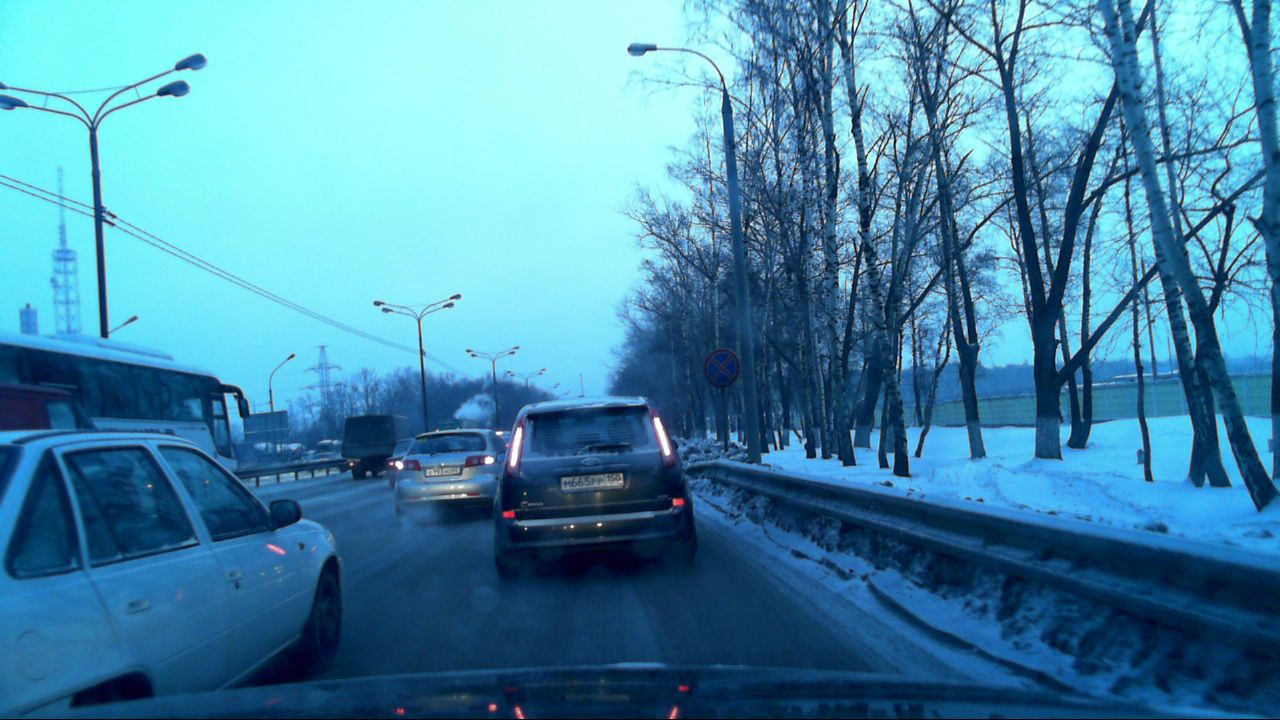No Parking: (702, 348, 741, 389)
